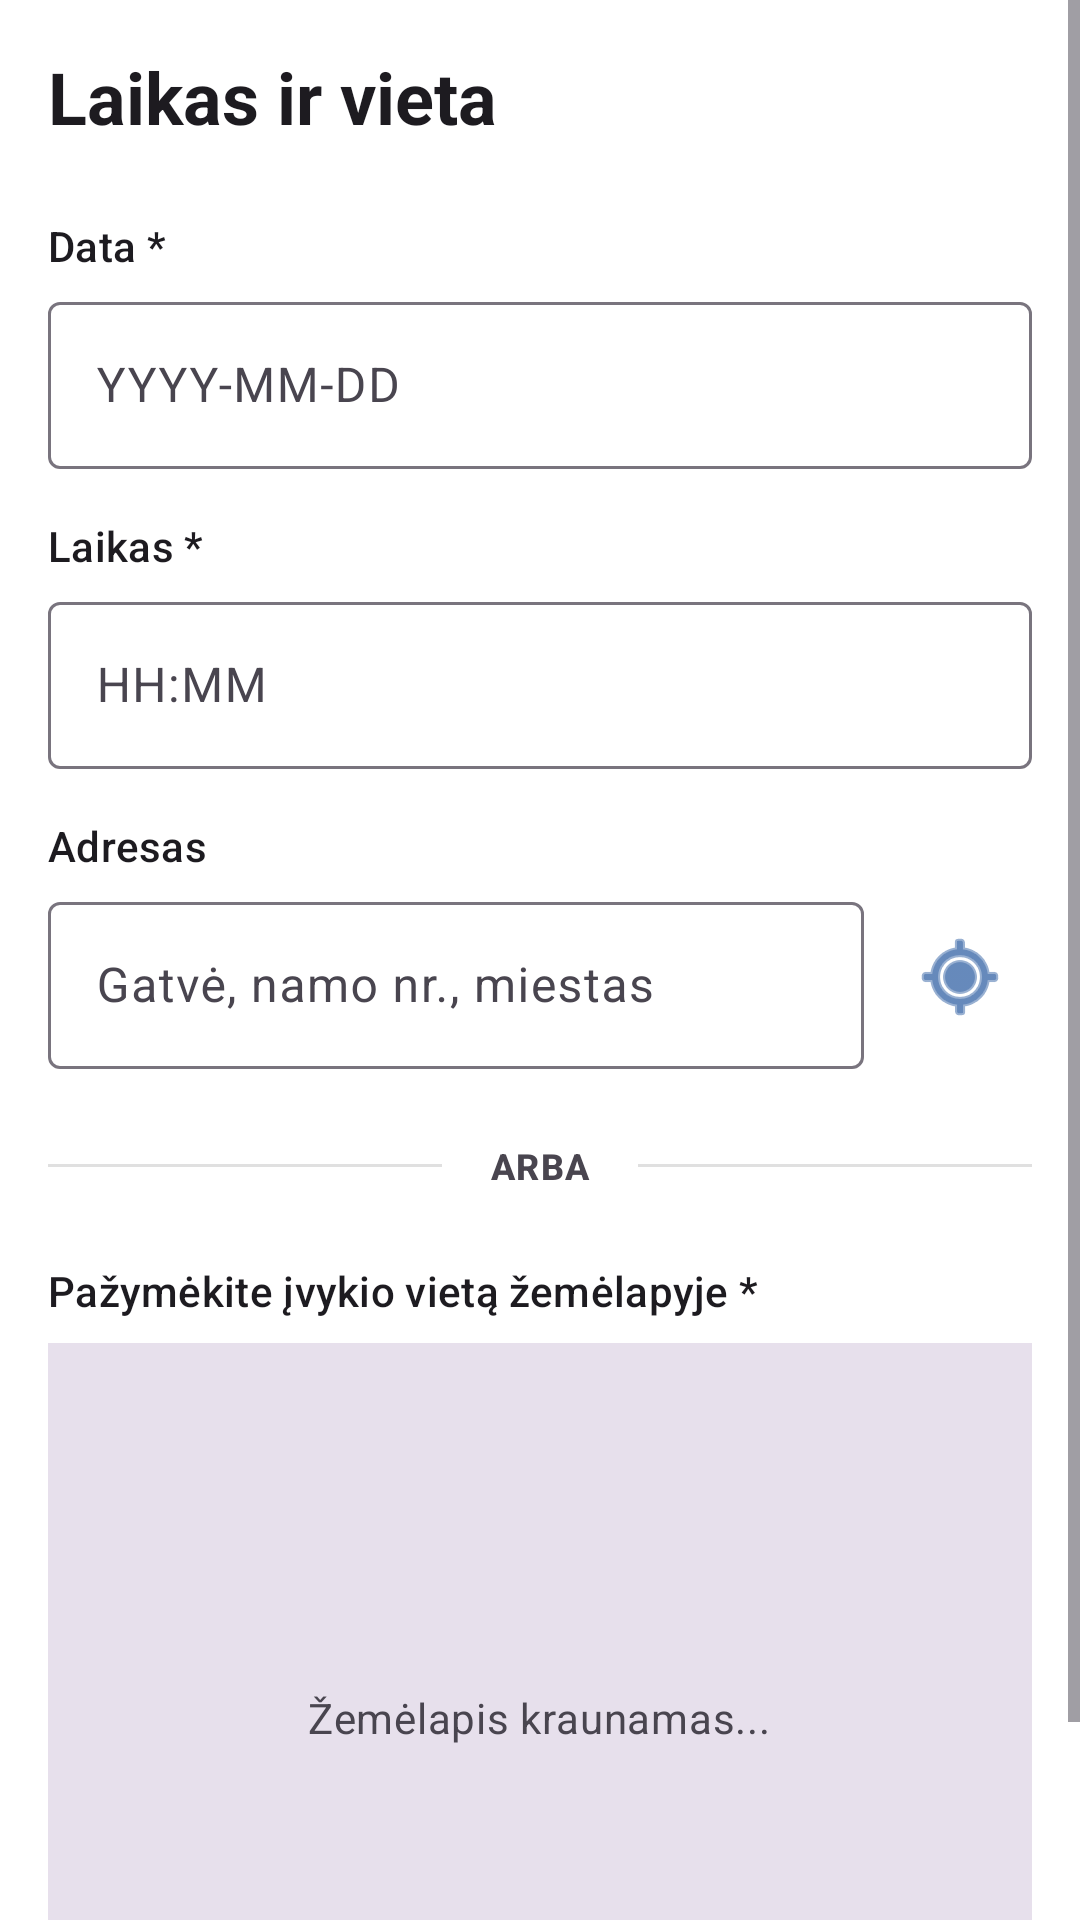

Point at icon controls on the screen. Image size 1080 × 1920, points as (x=x, y=y).
Užpildyti įvykio vietą pagal GPS: (x=960, y=977)
